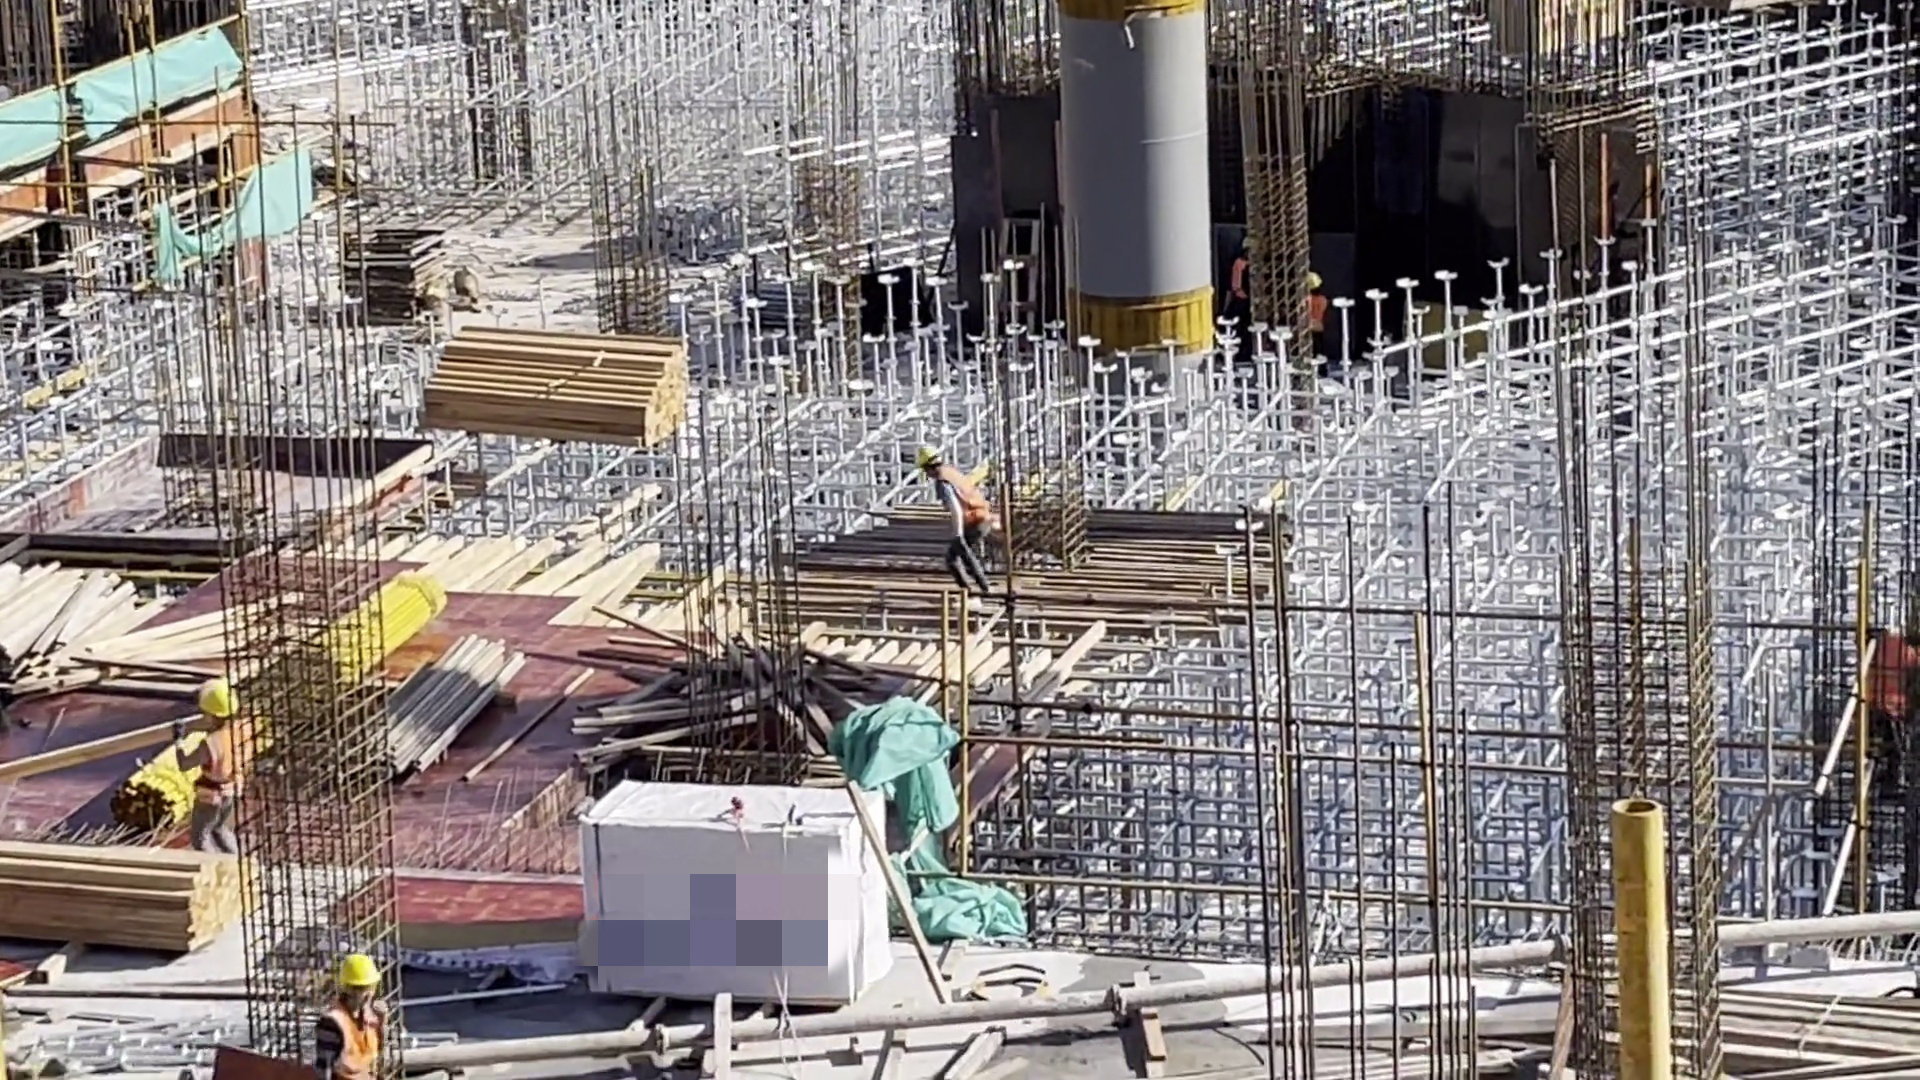helmet: (917, 445, 939, 463)
person: (906, 441, 993, 600)
rebar: (812, 490, 1280, 634)
wood: (2, 824, 266, 958), (425, 330, 690, 458), (6, 569, 170, 685), (402, 638, 525, 788)
